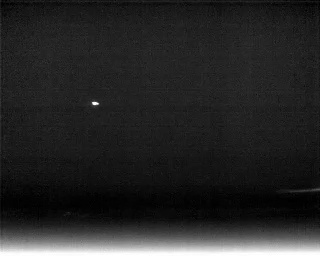AIRPLANE: (90, 98, 101, 108)
